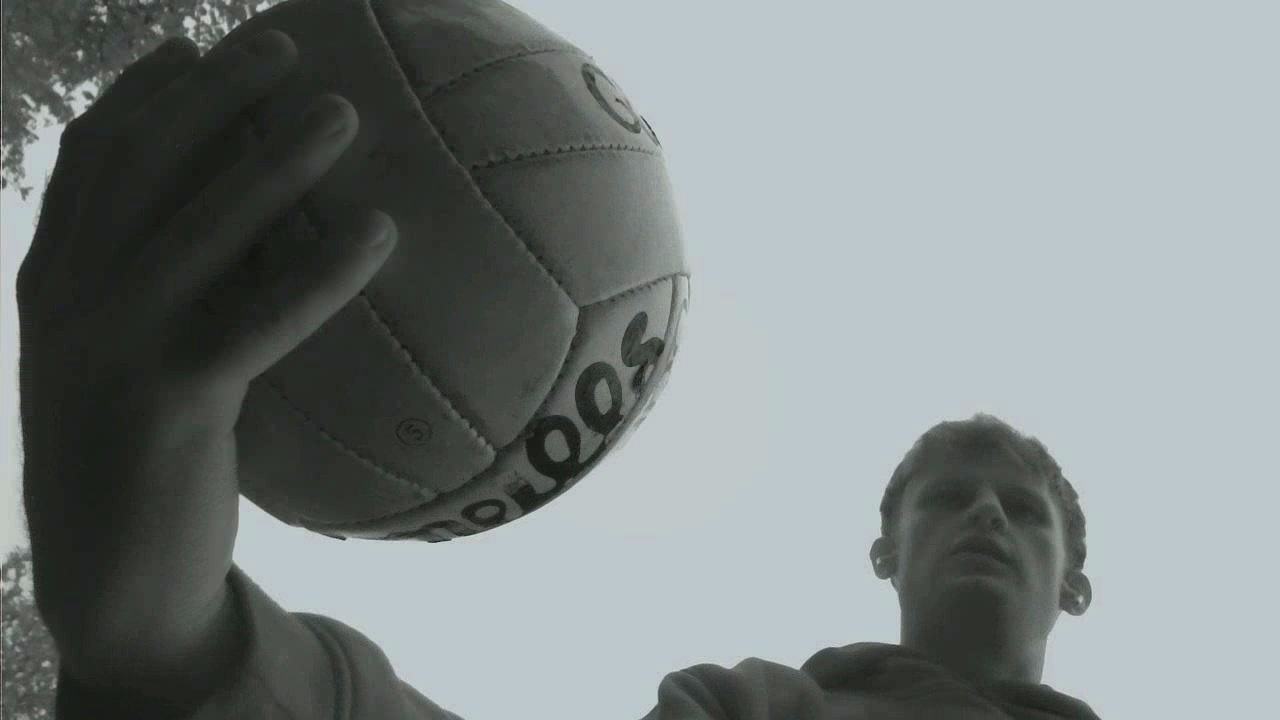Football-Spotter: (227, 0, 688, 540)
